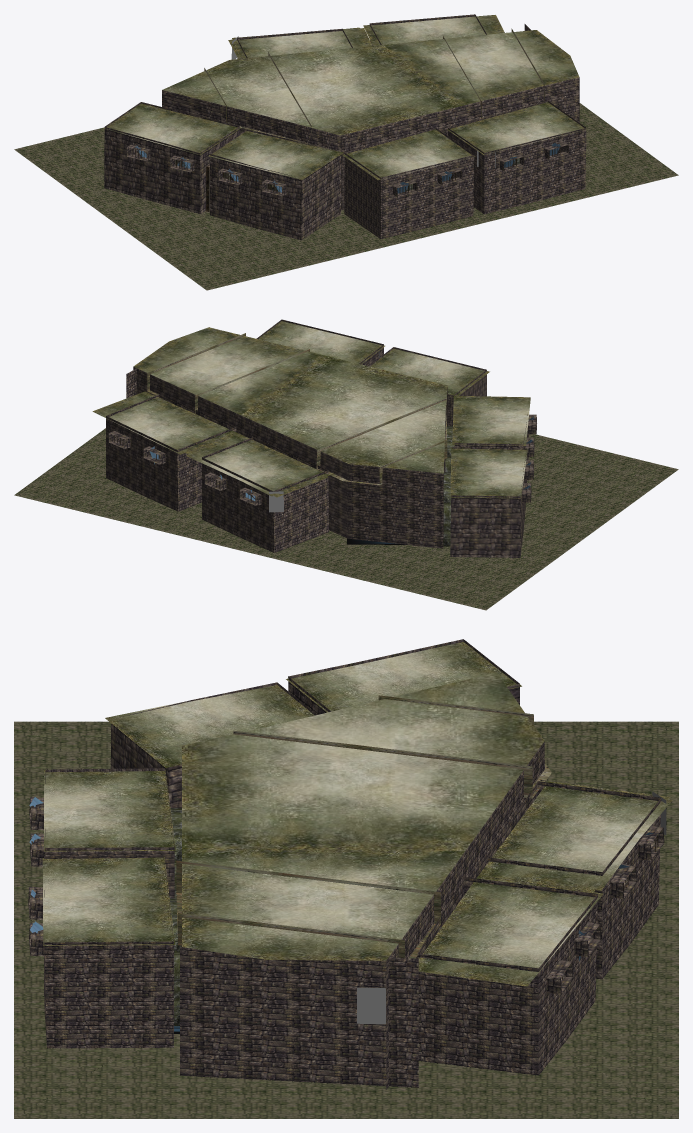
File: navy_jail_interior_stairless.fbx
3 views of the same model, one above another, from view 1: azimuth 30°, elevation 25°; view 2: azimuth 150°, elevation 25°; view 3: azimuth 270°, elevation 25° (orthographic). The views are drawn at different scales.
Visible parts, largest first — view 1: ceiling_main, floor, walls, pasted__pPlane76, pasted__pPlane74, pasted__pPlane81, pasted__pPlane68, ceiling80, ceiling77, ceiling78, ceiling79, ceiling75 (+1 smaller); view 2: floor, ceiling_main, walls, pasted__pPlane82, pasted__pPlane83, pasted__pPlane68, ceiling75, ceiling76, ceiling78, ceiling77, ceiling80, ceiling79 (+5 smaller); view 3: ceiling_main, floor, stair_structure, pasted__pPlane83, pasted__pPlane81, ceiling75, ceiling76, ceiling80, ceiling79, ceiling78, ceiling77, pasted__pPlane82 (+8 smaller).
Part boxes in pixels (x1,y1,x2,y2): ceiling_main: (162, 30, 579, 135); floor: (14, 103, 678, 290); walls: (162, 77, 579, 210); pasted__pPlane76: (344, 128, 474, 239); pasted__pPlane74: (210, 129, 340, 240); pasted__pPlane81: (448, 100, 586, 214); pasted__pPlane68: (104, 102, 239, 213); ceiling80: (447, 102, 587, 154); ceiling77: (103, 103, 240, 155); ceiling78: (208, 131, 343, 179); ceiling79: (342, 129, 475, 180); ceiling75: (363, 15, 504, 45); floor: (14, 428, 678, 610); ceiling_main: (133, 327, 447, 473); walls: (133, 367, 447, 548); pasted__pPlane82: (202, 437, 328, 552); pasted__pPlane83: (106, 394, 236, 511); pasted__pPlane68: (450, 447, 526, 557); ceiling75: (92, 391, 237, 454); ceiling76: (185, 433, 329, 496); ceiling78: (452, 395, 530, 445); ceiling77: (450, 448, 527, 498); ceiling80: (258, 321, 384, 364); ceiling79: (370, 348, 489, 397); ceiling_main: (182, 672, 544, 960); floor: (14, 721, 678, 1118); stair_structure: (180, 946, 418, 1087); pasted__pPlane83: (417, 877, 597, 1075); pasted__pPlane81: (44, 855, 173, 1048); ceiling75: (418, 875, 603, 986); ceiling76: (479, 781, 672, 891); ceiling80: (42, 856, 175, 945); ceiling79: (44, 769, 175, 851); ceiling78: (105, 685, 314, 767); ceiling77: (286, 642, 521, 712); pasted__pPlane82: (488, 781, 661, 979).
Bounding box in the file's own units: 13278 × 3081 × 9394.
5 materials, 5 textured.
